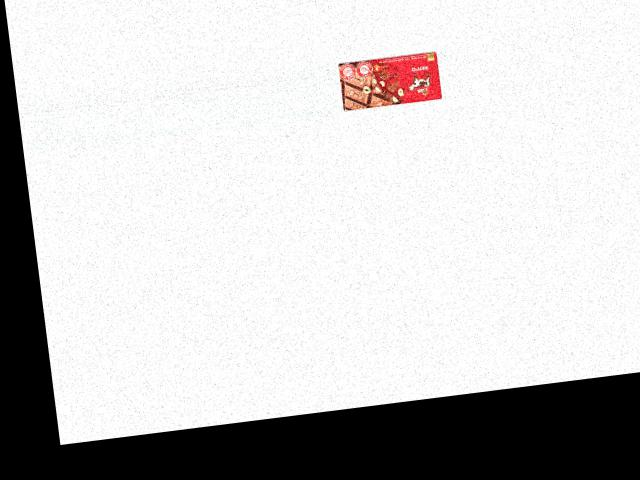chocolate: (337, 50, 442, 111)
